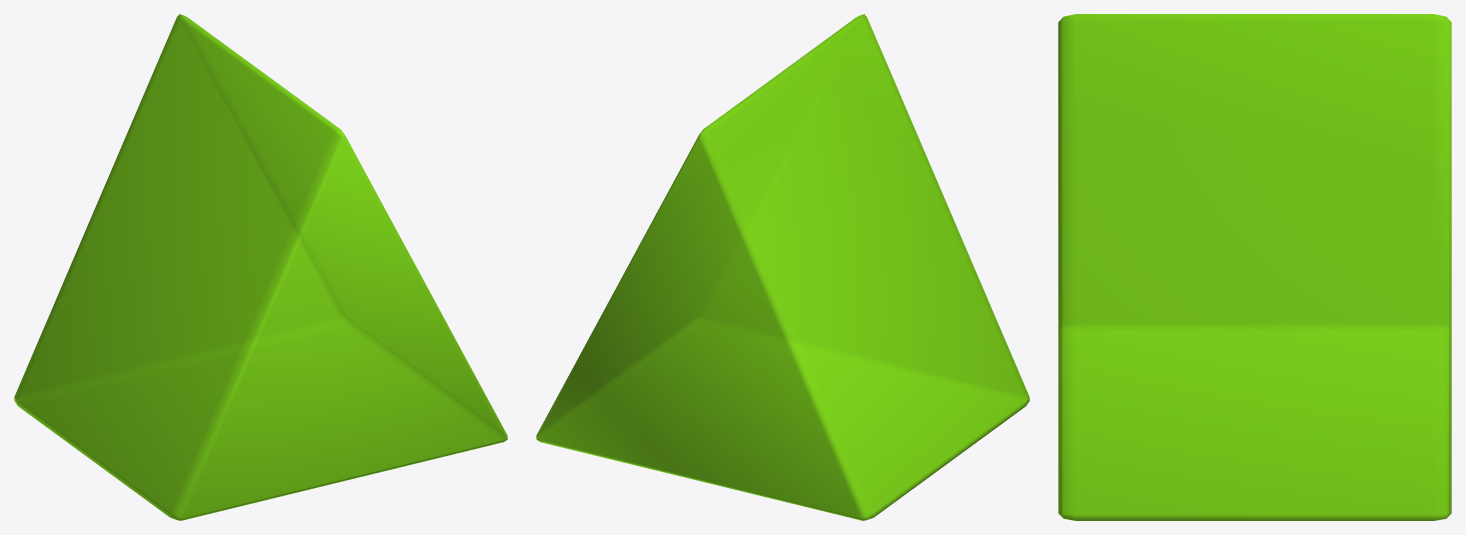
The model's file is ShapeDrop_FinalAssets-TrianglePlayer-Final-Optimized.fbx.
3 renders of one model, left to right at view 1: azimuth 30°, elevation 25°; view 2: azimuth 150°, elevation 25°; view 3: azimuth 270°, elevation 25°, orthographic. The views are drawn at different scales.
Parts seen in each view (by area): view 1: TrianglePlayer - Mat-Optimized; view 2: TrianglePlayer - Mat-Optimized; view 3: TrianglePlayer - Mat-Optimized.
Part boxes in pixels (x1,y1,x2,y2): TrianglePlayer - Mat-Optimized: (14, 14, 507, 520); TrianglePlayer - Mat-Optimized: (536, 14, 1029, 520); TrianglePlayer - Mat-Optimized: (1058, 14, 1451, 520).
Bounding box in the file's own units: 392 × 395 × 340.
